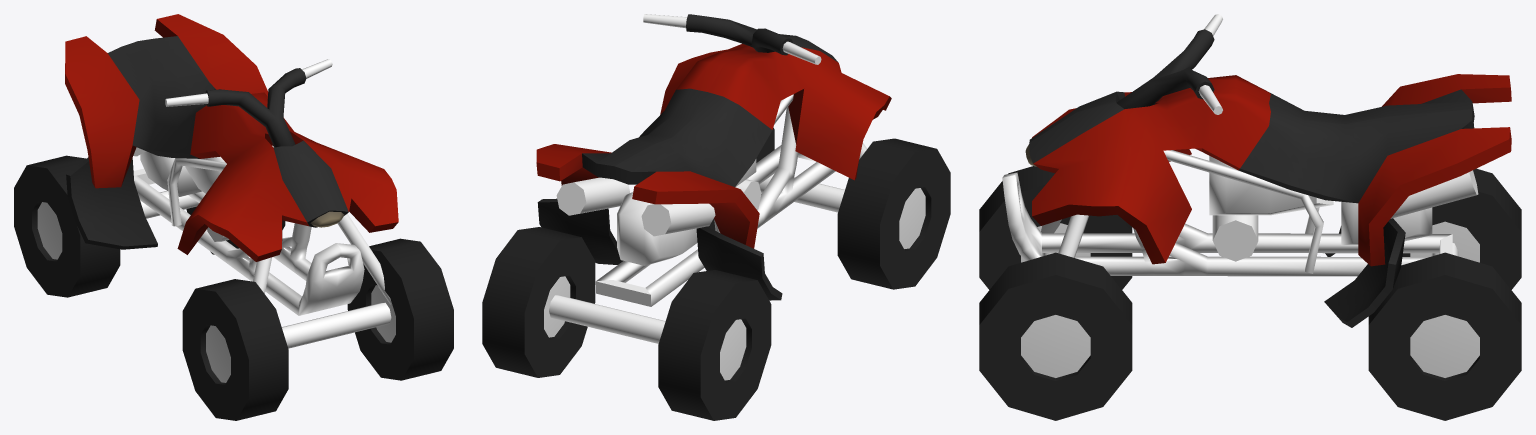
The model's file is vehicles-bikes-atv_v1.glb.
The picture shows the model from 3 angles, left to right: view 1: azimuth 30°, elevation 25°; view 2: azimuth 150°, elevation 25°; view 3: azimuth 270°, elevation 25°; orthographic projection. The views are drawn at different scales.
Parts seen in each view (by area): view 1: ATV; view 2: ATV; view 3: ATV.
Boxes of the visible parts, <box> form: ATV: <box>14,14,453,420</box>; ATV: <box>482,14,950,420</box>; ATV: <box>979,14,1521,420</box>.
Size of the model in its own units: 1.03 by 1.25 by 2.
